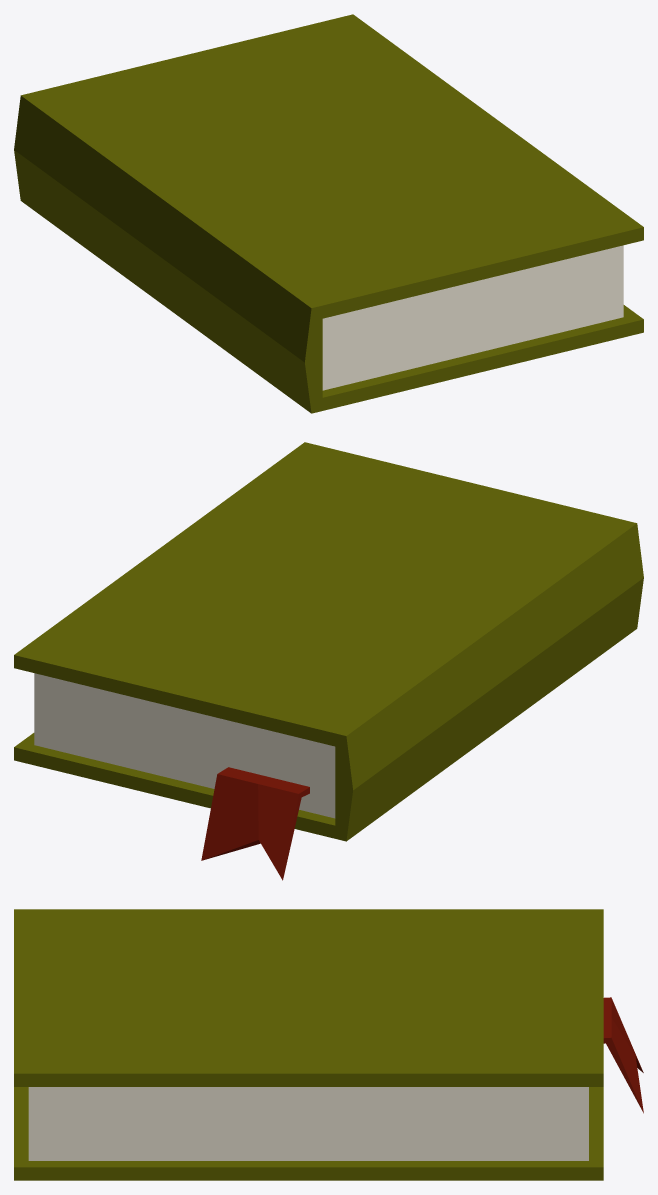
Rendered from Book_2.fbx.
3 renders of one model, top to bottom at view 1: azimuth 30°, elevation 25°; view 2: azimuth 150°, elevation 25°; view 3: azimuth 270°, elevation 25°, orthographic.
Parts seen in each view (by area): view 1: pCube781; view 2: pCube781; view 3: pCube781.
Part boxes in pixels (x1,y1,x2,y2): pCube781: [14, 14, 643, 413]; pCube781: [14, 442, 643, 880]; pCube781: [14, 909, 643, 1180].
Bounding box in the file's own units: 33.67 × 13.35 × 53.43.
